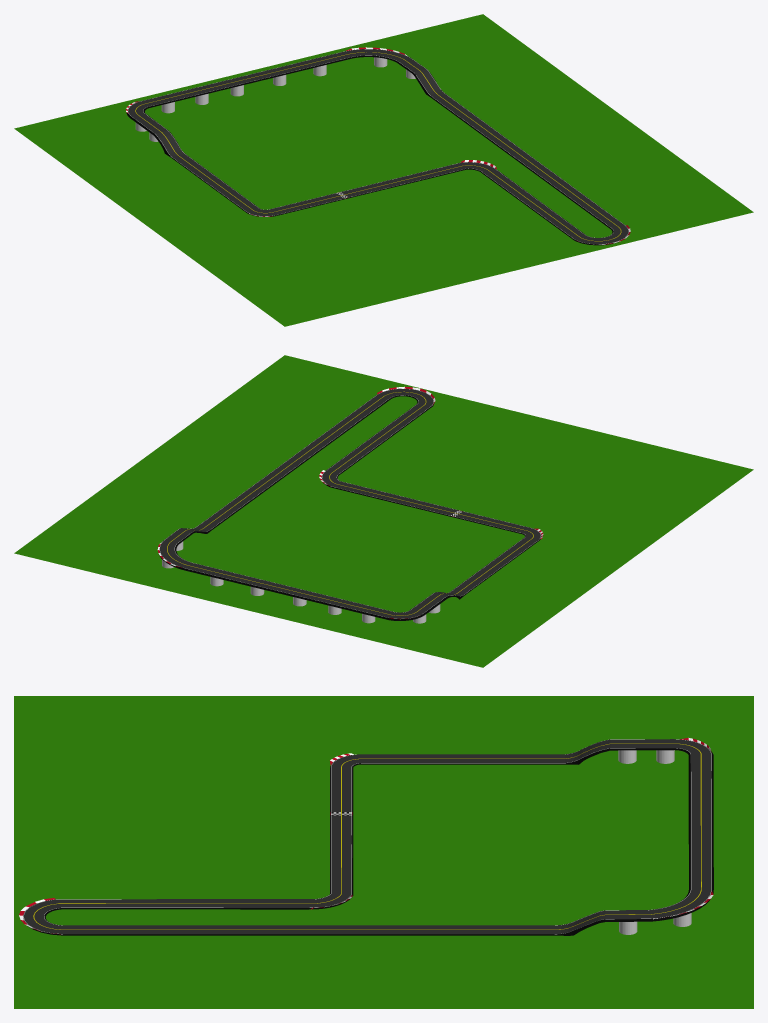
The model's file is Map 1.glb.
3 renders of one model, top to bottom at view 1: azimuth 30°, elevation 25°; view 2: azimuth 150°, elevation 25°; view 3: azimuth 270°, elevation 25°, orthographic. The views are drawn at different scales.
Parts seen in each view (by area): view 1: Grid, Plane; view 2: Grid, Plane; view 3: Grid, Plane.
Boxes of the visible parts, x1,y1,x2,y2 form: Grid: [14, 14, 753, 326]; Plane: [126, 47, 630, 245]; Grid: [14, 355, 753, 667]; Plane: [157, 386, 543, 620]; Grid: [14, 696, 753, 1008]; Plane: [19, 737, 713, 935].
Bounding box in the file's own units: 426 × 12.44 × 426.
